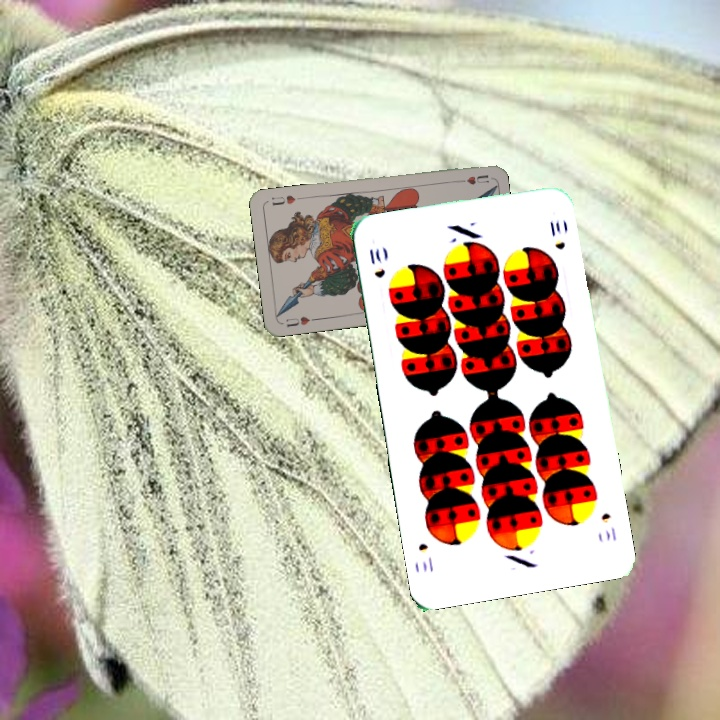HU: (282, 312, 319, 330), (451, 171, 491, 187)
S10: (365, 244, 388, 281), (597, 509, 619, 544)
